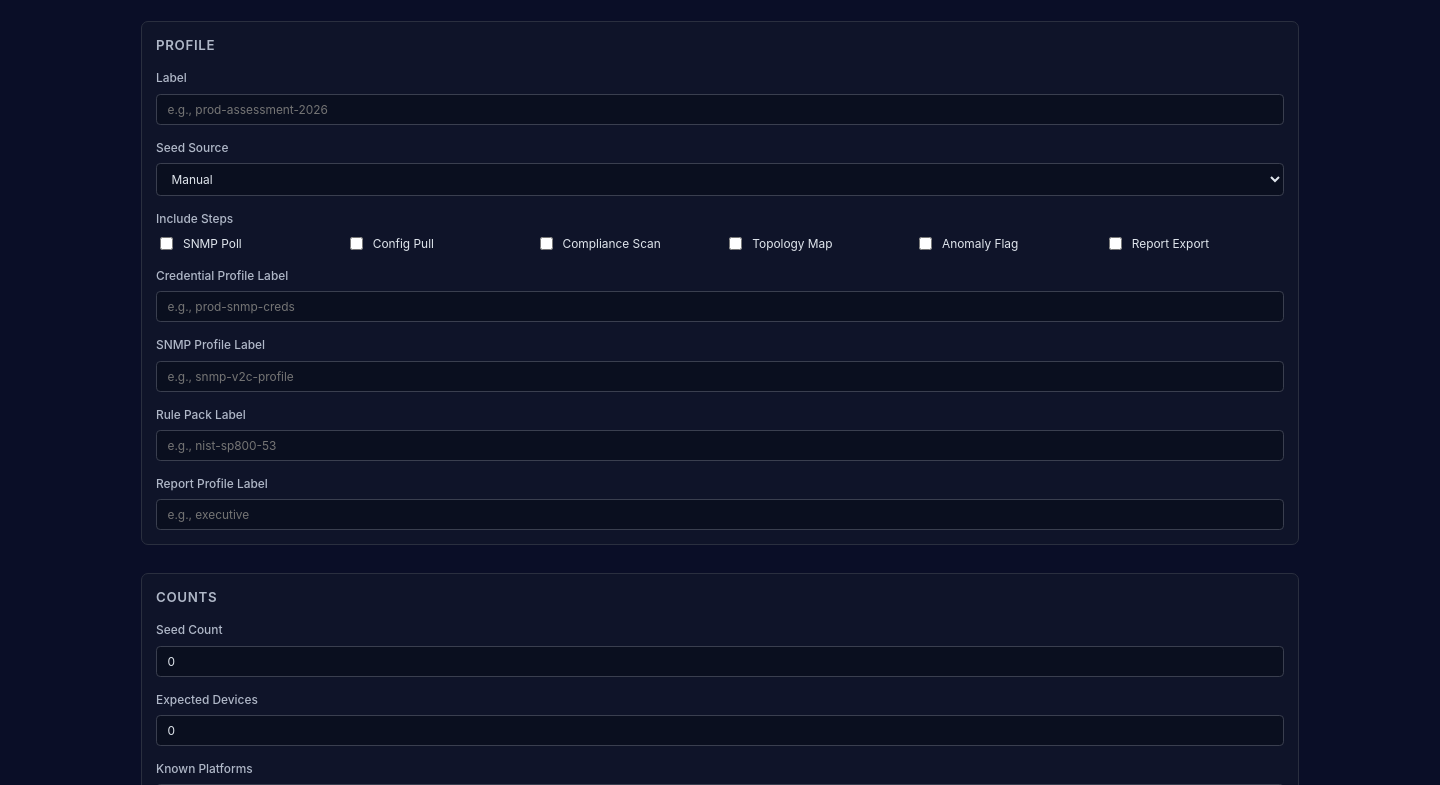
AssessPipelinePlannerPanel — UI › toggling include_config_pull with no credential label → next_action attach_credentials + missing input visible
Replace the text in the number field labelled "Seed Count" with "3": x=720, y=661 [156,646,1284,676]
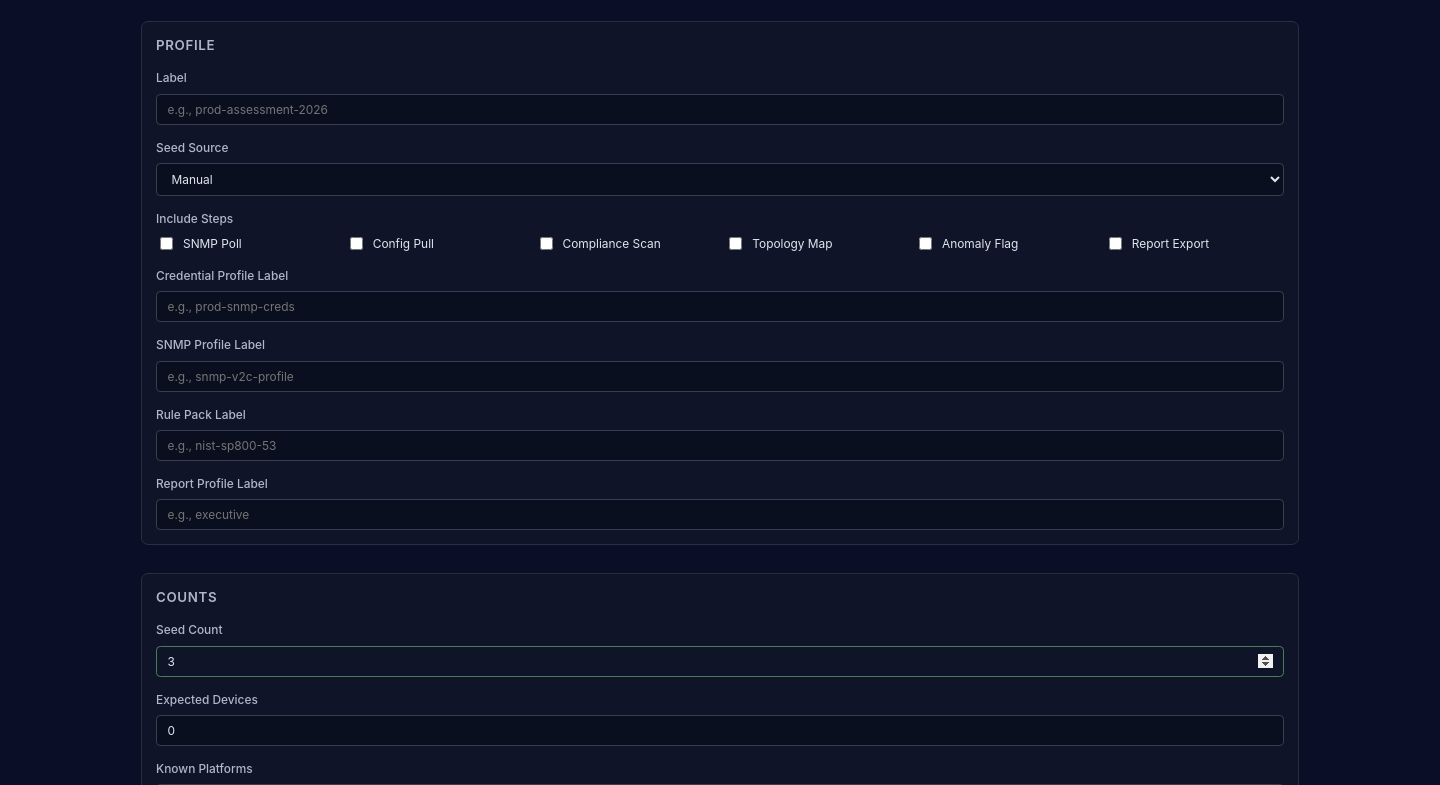
Click the checkbox labelled "Config Pull": x=356, y=244 [350,237,363,250]
(page scrolled)
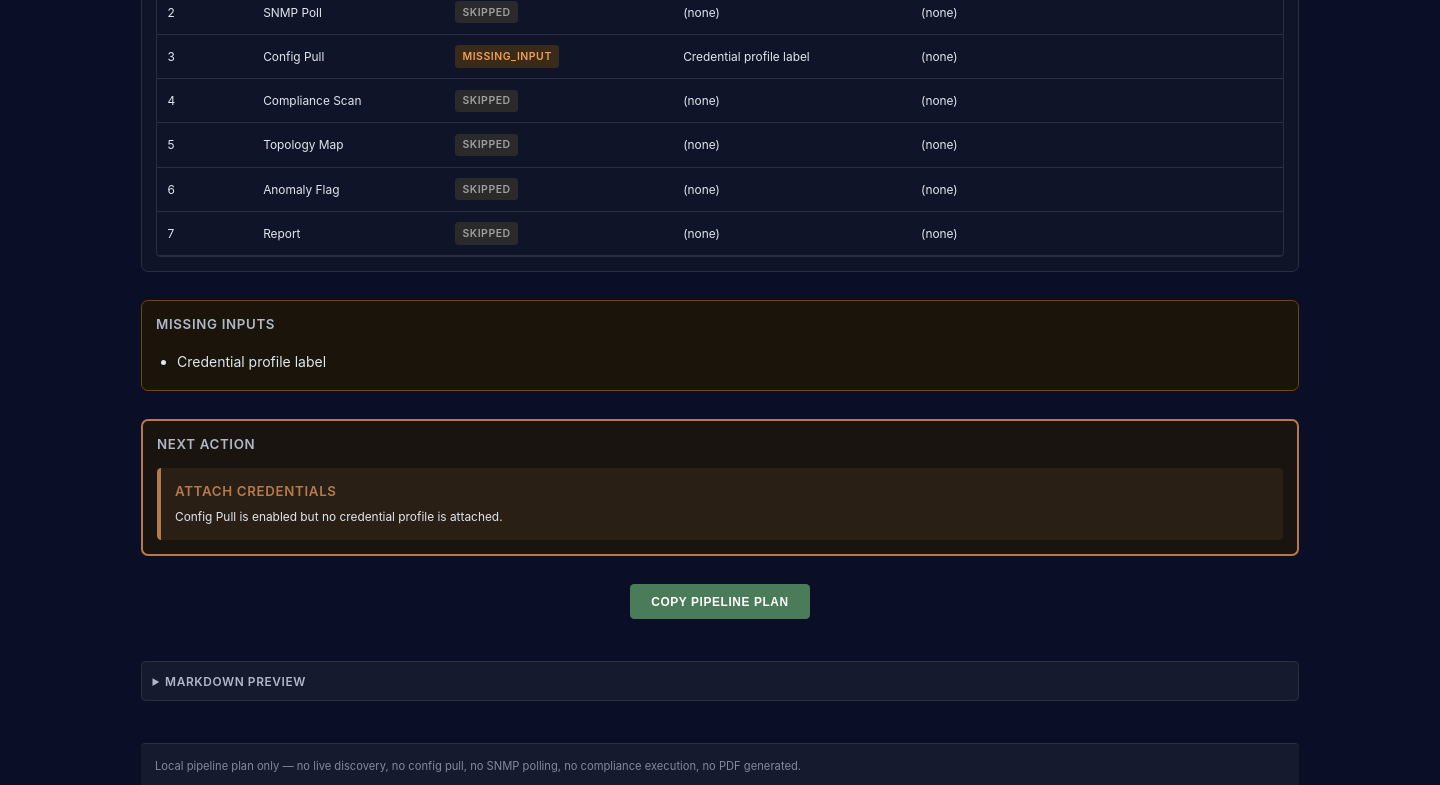
Now the text "ATTACH CREDENTIALS" is shown, box [175,483,337,499]
